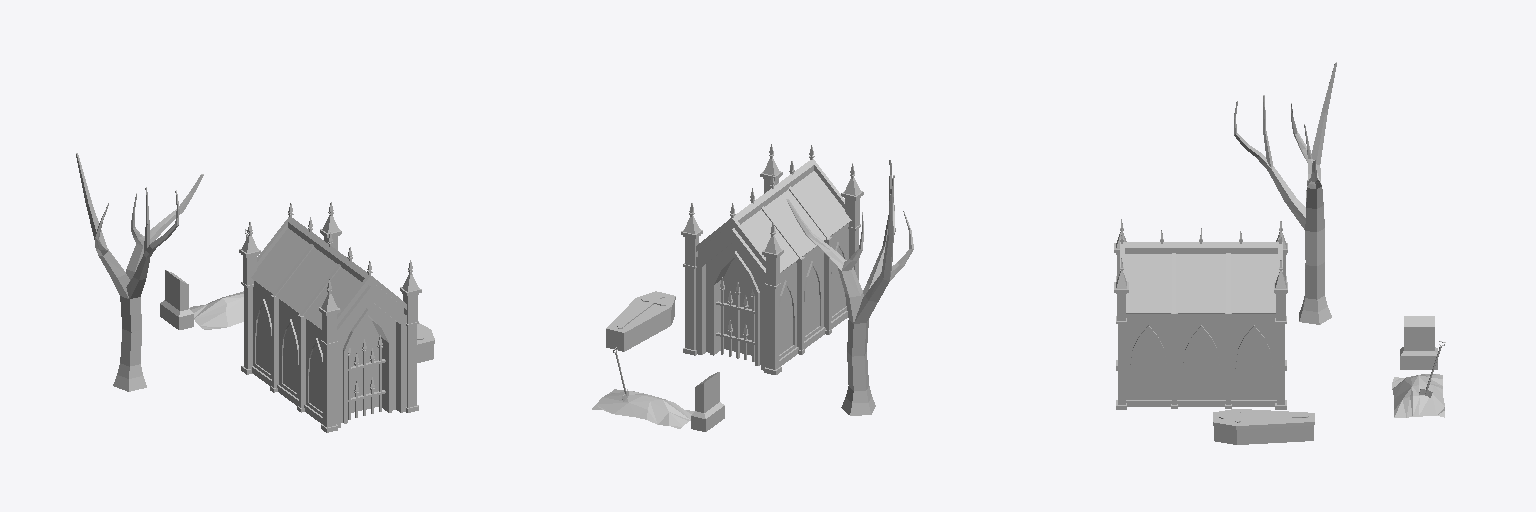
Rendered from gravetree.obj.
The picture shows the model from 3 angles: view 1: azimuth 30°, elevation 25°; view 2: azimuth 150°, elevation 25°; view 3: azimuth 270°, elevation 25°; orthographic projection.
Visible parts, largest first — view 1: Crypt_3_Mesh.007, Dead_Tree_1_Mesh.001, Ground_Mesh.003, Headstone_3_Mesh.006, Coffin_1_Mesh.005; view 2: Crypt_3_Mesh.007, Dead_Tree_1_Mesh.001, Coffin_1_Mesh.005, Ground_Mesh.003, Headstone_3_Mesh.006; view 3: Crypt_3_Mesh.007, Dead_Tree_1_Mesh.001, Coffin_1_Mesh.005, Ground_Mesh.003, Headstone_3_Mesh.006.
Boxes of the visible parts, box(x1,y1,x2,y2) form: Crypt_3_Mesh.007: box(239, 202, 421, 432); Dead_Tree_1_Mesh.001: box(76, 153, 203, 391); Ground_Mesh.003: box(189, 291, 243, 329); Headstone_3_Mesh.006: box(160, 270, 193, 329); Coffin_1_Mesh.005: box(417, 323, 434, 362); Crypt_3_Mesh.007: box(681, 144, 863, 374); Dead_Tree_1_Mesh.001: box(786, 160, 913, 415); Coffin_1_Mesh.005: box(606, 291, 675, 351); Ground_Mesh.003: box(592, 389, 694, 428); Headstone_3_Mesh.006: box(691, 372, 724, 431); Crypt_3_Mesh.007: box(1114, 219, 1287, 409); Dead_Tree_1_Mesh.001: box(1234, 62, 1336, 324); Coffin_1_Mesh.005: box(1213, 409, 1314, 444); Ground_Mesh.003: box(1392, 374, 1444, 417); Headstone_3_Mesh.006: box(1400, 316, 1437, 369).
Bounding box in the file's own units: 5.11 × 3.79 × 4.77.